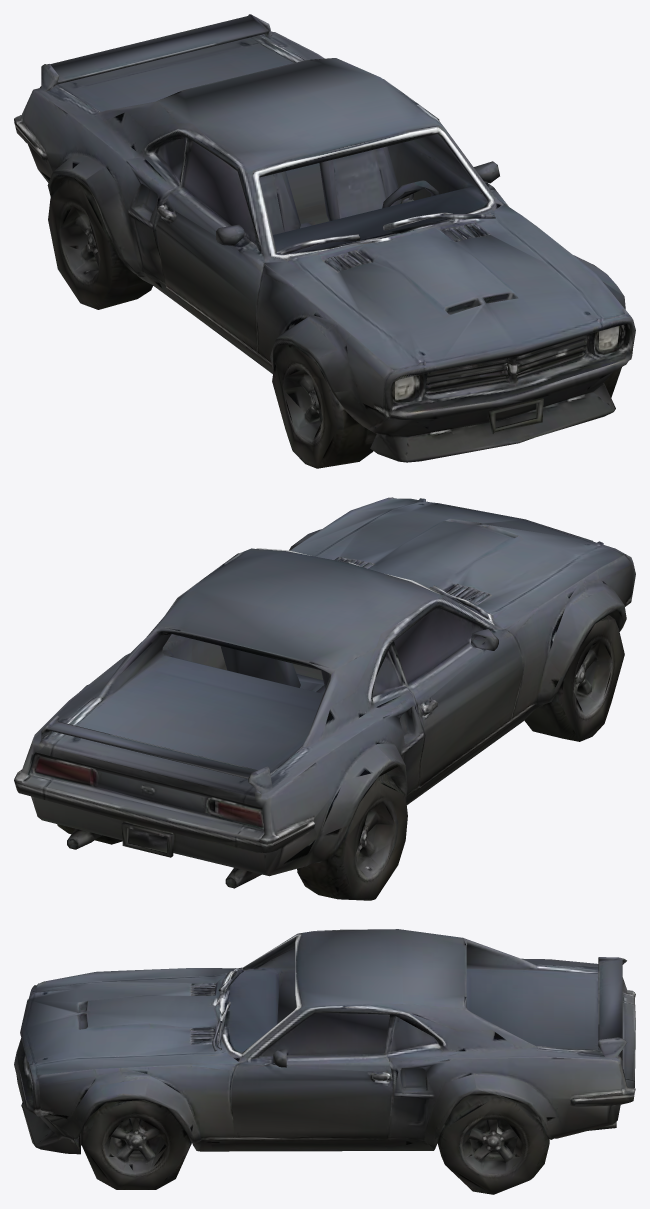
File: muscle-car.glb
The picture shows the model from 3 angles, top to bottom: view 1: azimuth 30°, elevation 25°; view 2: azimuth 150°, elevation 25°; view 3: azimuth 270°, elevation 25°; orthographic projection. The views are drawn at different scales.
Parts seen in each view (by area): view 1: tripo_node_8c6761c2-47e8-45e5-b62e-afb5c2a269b2; view 2: tripo_node_8c6761c2-47e8-45e5-b62e-afb5c2a269b2; view 3: tripo_node_8c6761c2-47e8-45e5-b62e-afb5c2a269b2.
Boxes of the visible parts, <box> form: tripo_node_8c6761c2-47e8-45e5-b62e-afb5c2a269b2: <box>14,14,635,468</box>; tripo_node_8c6761c2-47e8-45e5-b62e-afb5c2a269b2: <box>14,497,635,900</box>; tripo_node_8c6761c2-47e8-45e5-b62e-afb5c2a269b2: <box>14,929,635,1194</box>.
Bounding box in the file's own units: 0.4497 × 0.3005 × 0.9778.
Materials: 1 (1 with a texture image).
